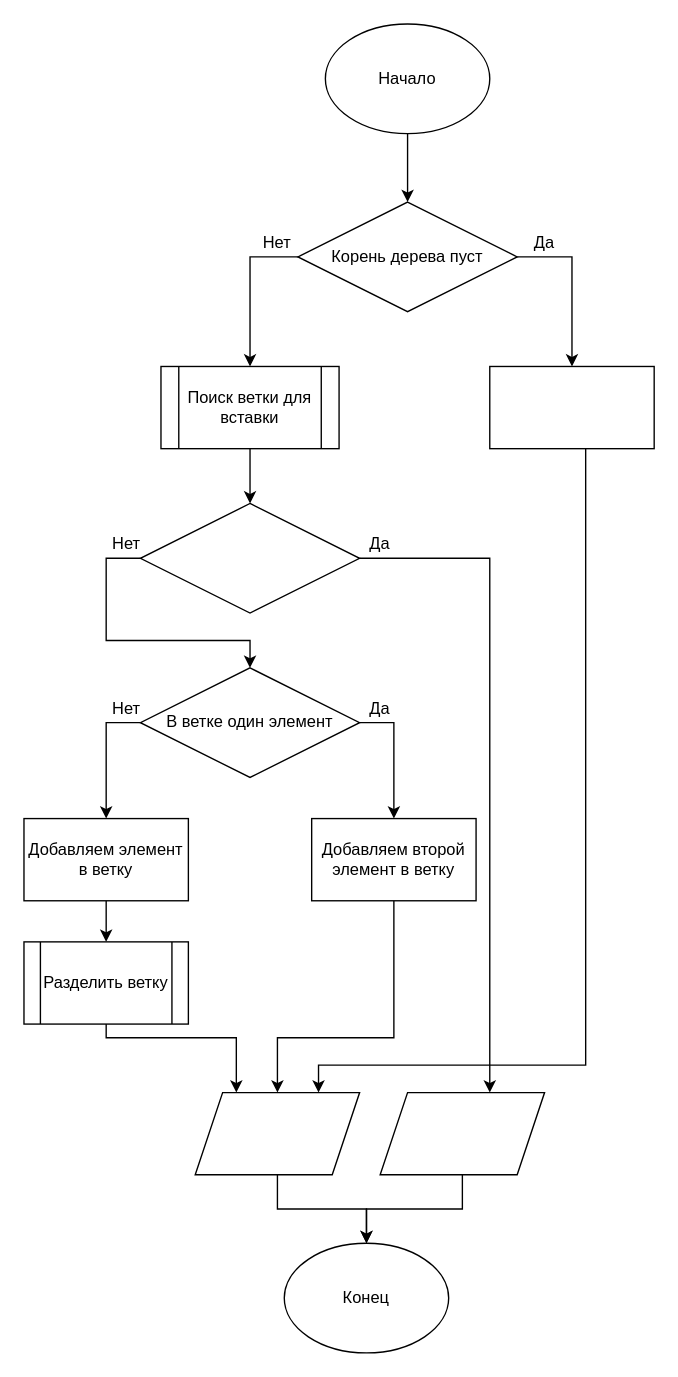
Some shapes in this 678 by 1377 pixel diagram are drawn without their labels. Each missing label, with the box of its shape:
Ветки не найдено: (139, 502, 360, 613)
Вывод false: (379, 1091, 545, 1175)
Вывод true: (194, 1091, 360, 1175)
Присваиваем корню дерева вставляемый элемент: (488, 365, 654, 449)
